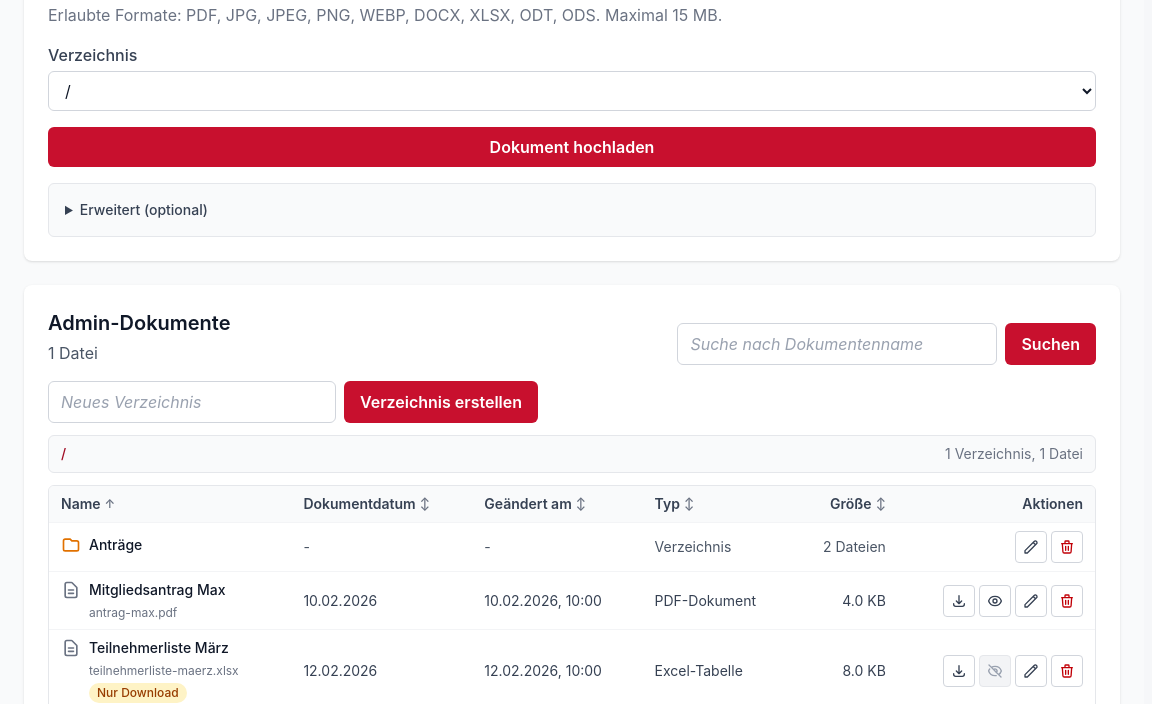
Test case: AdminDocumentsPage › hides directories in active search and allows reset
(page scrolled)
Expected: the button named "Verzeichnis umbenennen" is shown, [1015,531,1047,563]
Type "Max" into the field with placeholder "Suche nach Dokumentenname" at (837, 344), box [677,323,997,365]
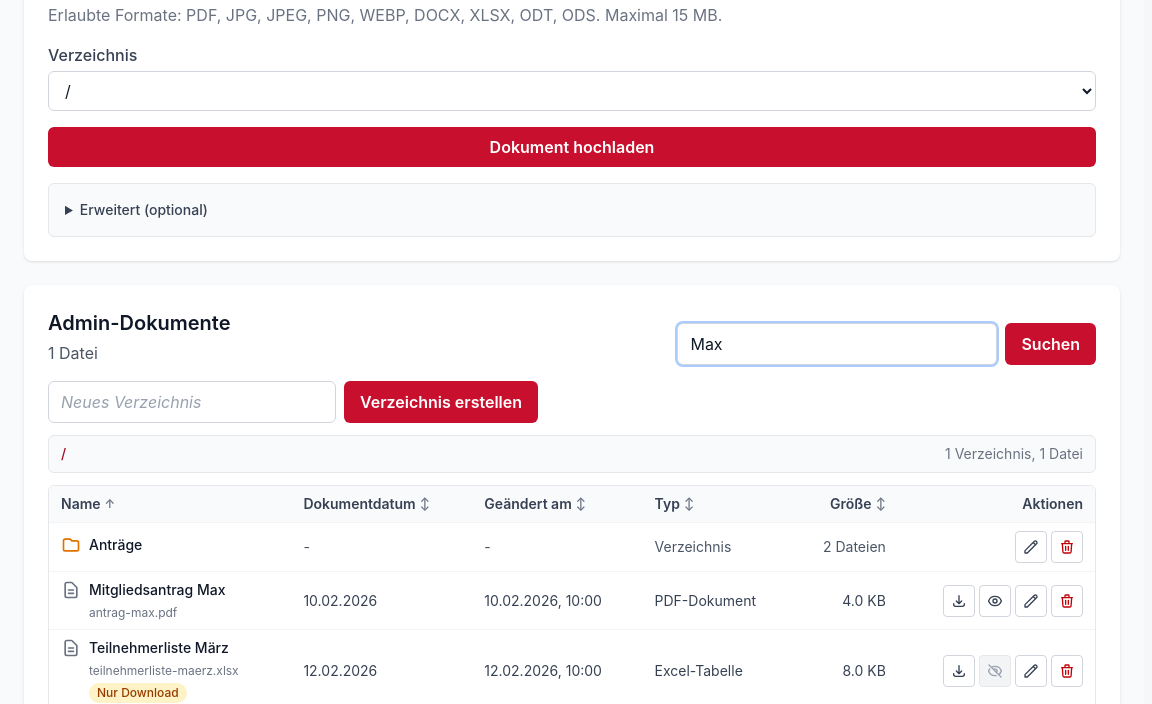
Click the button "Suchen" at (1051, 344), box [1005,323,1096,365]
(page scrolled)
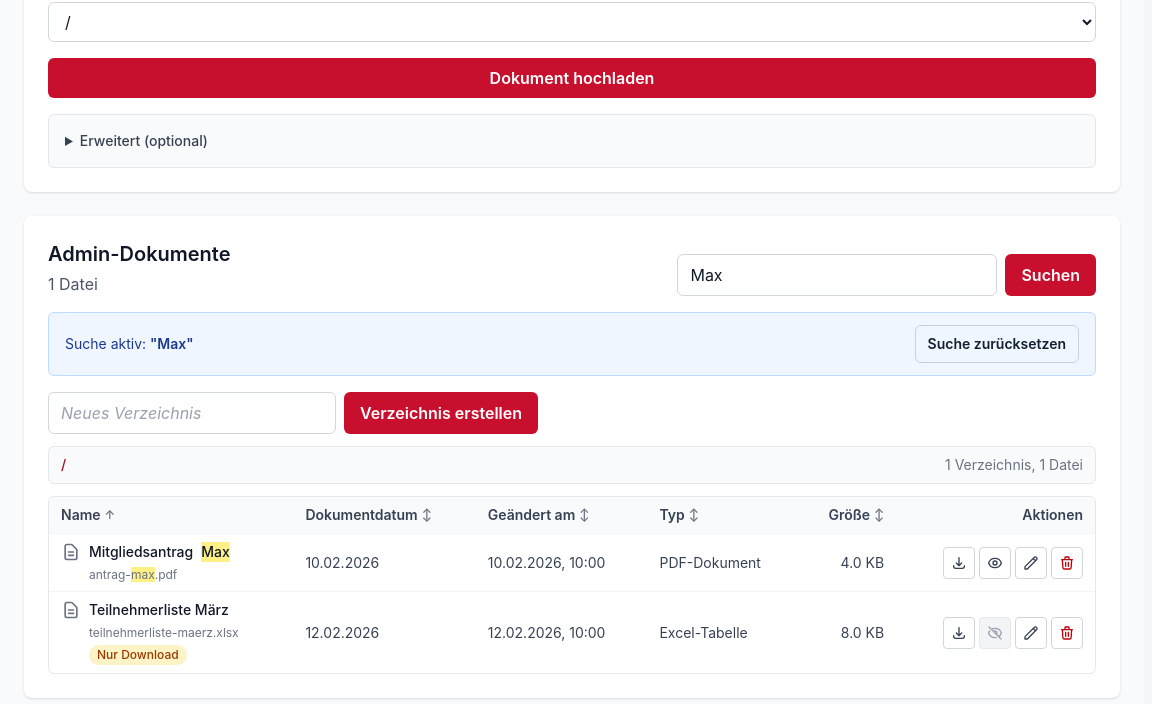
Click the button "Suche zurücksetzen" at (997, 344), box [915,325,1079,363]
(page scrolled)
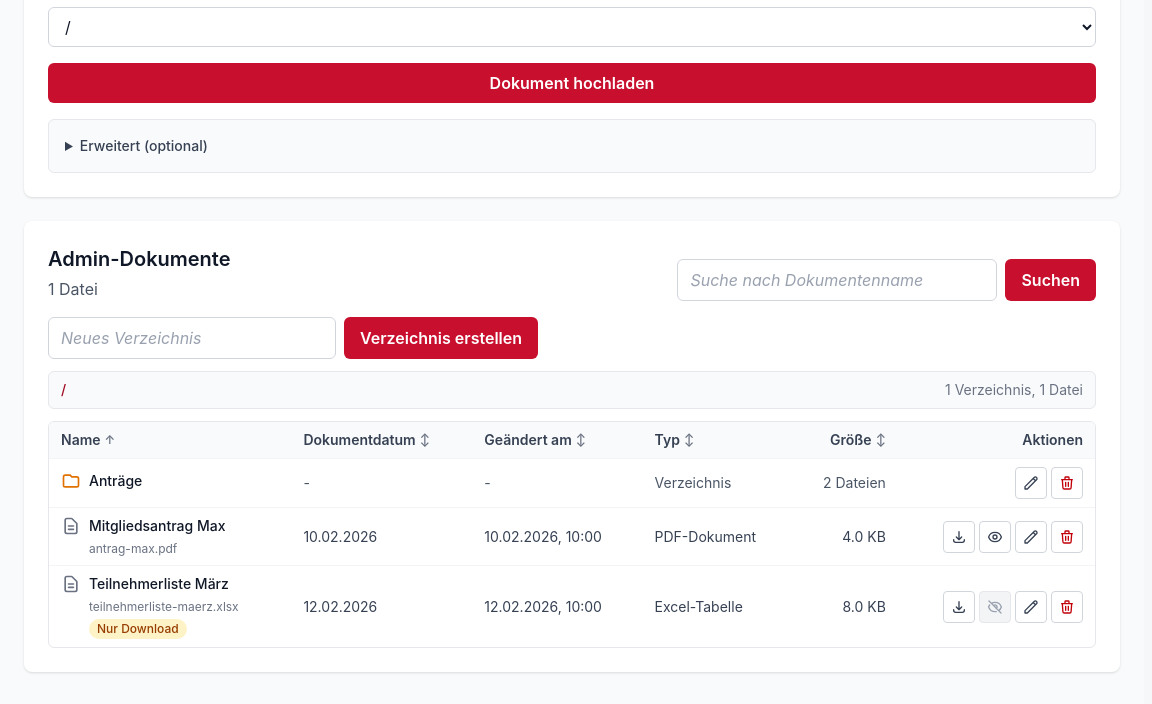
Expected: the button named "Verzeichnis umbenennen" is shown, [1015,467,1047,499]
